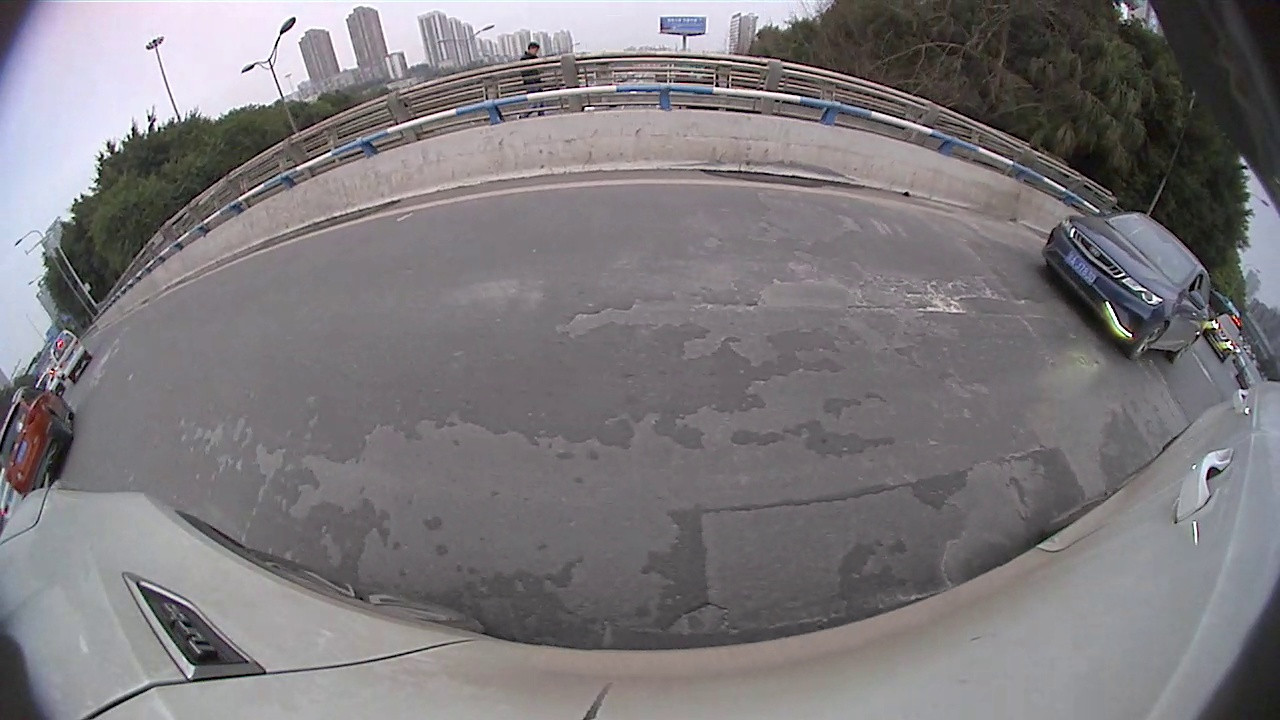car: (1039, 209, 1212, 363), (0, 379, 75, 497), (45, 329, 92, 376), (1203, 312, 1244, 359)
front: (1121, 324, 1165, 361)
rear: (1167, 334, 1198, 366), (51, 423, 77, 447)
